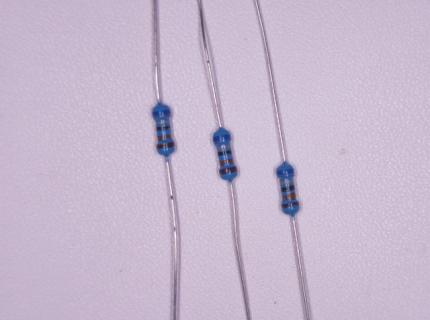Black band: (281, 185, 295, 192), (156, 125, 170, 131), (218, 150, 232, 156)
Blue band: (214, 134, 230, 141), (153, 109, 169, 116), (276, 169, 294, 175)
Brown band: (220, 165, 237, 175), (156, 141, 174, 149), (282, 202, 298, 209)
Grey band: (280, 180, 294, 185), (156, 119, 169, 124), (216, 145, 229, 149)
Orange band: (281, 191, 296, 202), (157, 134, 170, 142), (220, 159, 233, 166)
